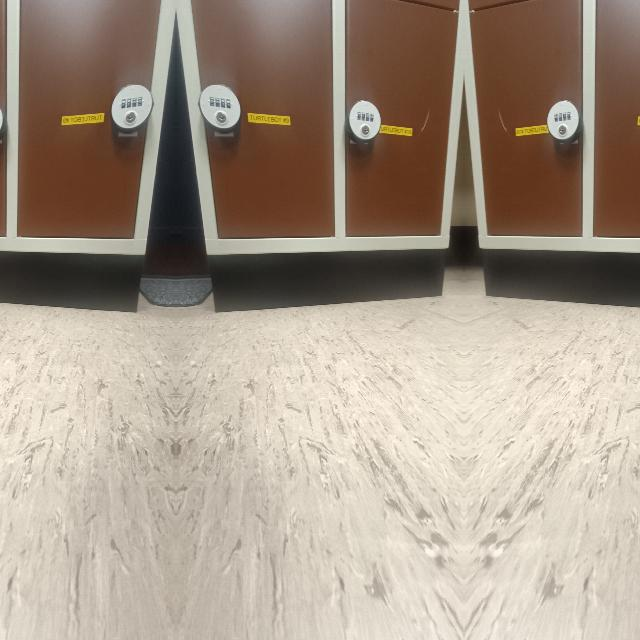obstacle: (182, 49, 450, 313), (0, 49, 168, 313), (476, 49, 640, 313)
